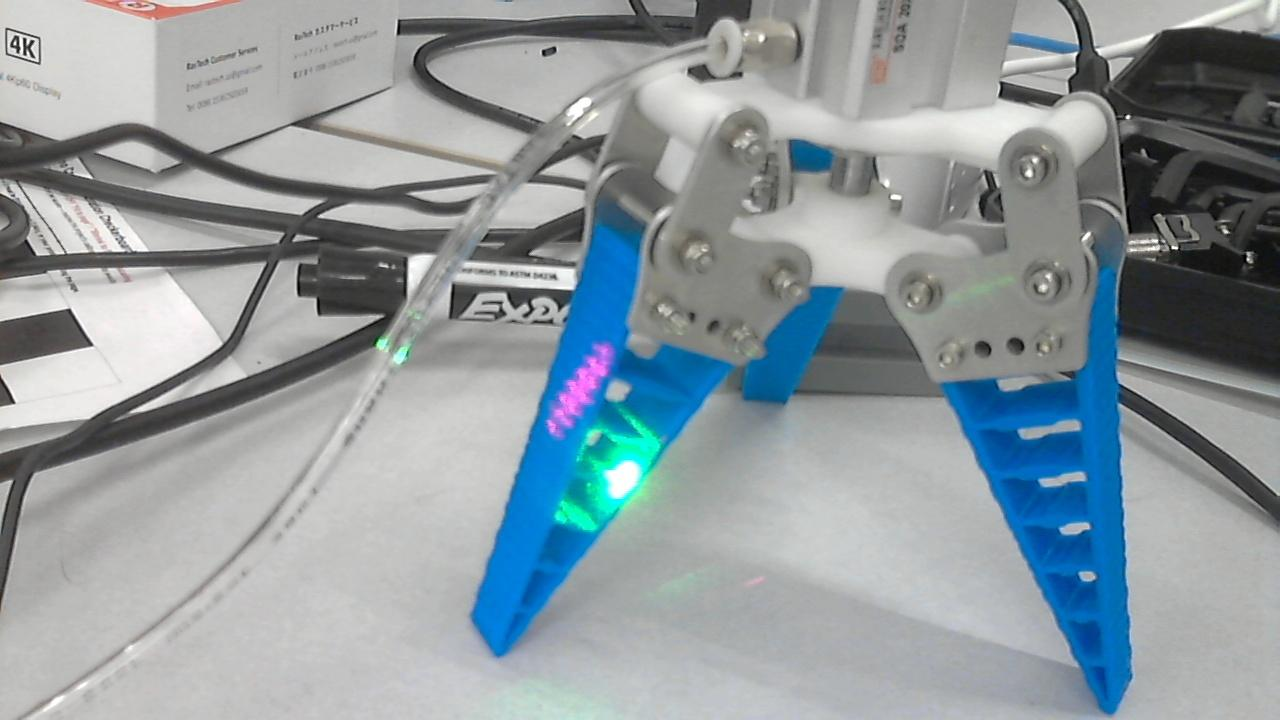Object robotic gripper finger assembly - Material plastic - Color blue - Pdfname: (540, 337, 668, 535)
